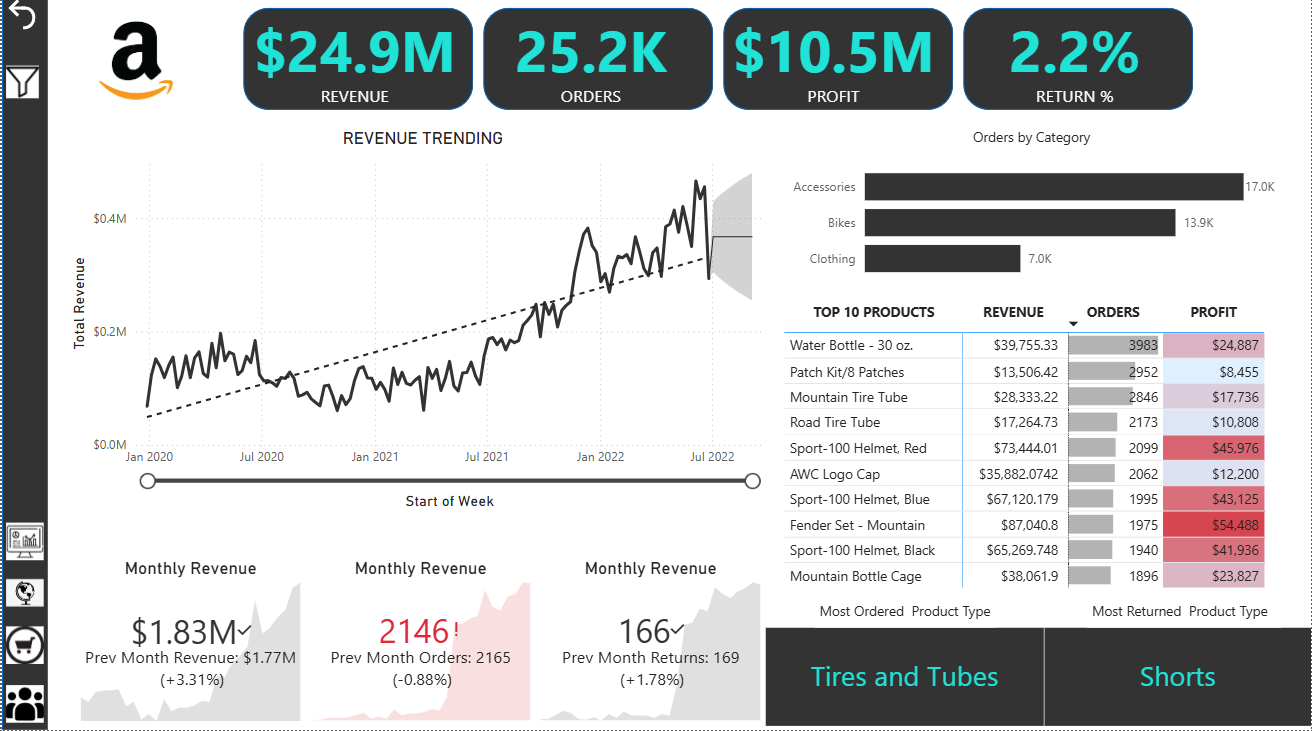

The dashboard page shown, as its layout file describes it:
{"tool":"powerbi","page":{"name":"Exec Dash","canvas":[1280,720],"ordinal":0},"visuals":[{"type":"image","title":"Amazon Logo","box":[72.5,12.5,117.5,107.5],"z":0},{"type":"card","fields":{"Values":["Table measure.Total Revenue"]},"box":[229.4,13,230.8,99.6],"z":0,"group":"g2"},{"type":"group","id":"g1","title":"KPI Cards","box":[235,13,928.8,100],"z":0,"group":"g3"},{"type":"shape","box":[235,13,225,100],"z":0,"group":"g1"},{"type":"actionButton","box":[0,509.9,45.1,50.7],"z":0,"group":"g4"},{"type":"shape","title":"Left Nav Bar","box":[0,0,45,720],"z":1000},{"type":"group","id":"g2","title":"KPI Values","box":[229.4,13,934.9,99.6],"z":1000,"group":"g3"},{"type":"card","fields":{"Values":["Table measure.Total Orders"]},"box":[460.2,13,230.8,99.6],"z":1000,"group":"g2"},{"type":"shape","box":[469.6,13,225,100],"z":1000,"group":"g1"},{"type":"actionButton","box":[0,611.3,45.1,50.7],"z":1000,"group":"g4"},{"type":"group","id":"g3","title":"KPIs","box":[229.4,13,934.9,100],"z":2000},{"type":"card","fields":{"Values":["Table measure.Total Profit"]},"box":[698.3,13,230.8,99.6],"z":2000,"group":"g2"},{"type":"shape","box":[704.2,13,225,100],"z":2000,"group":"g1"},{"type":"actionButton","box":[0,560.6,45.1,50.7],"z":2000,"group":"g4"},{"type":"card","fields":{"Values":["Table measure.Return rate"]},"box":[933.5,13,230.8,99.6],"z":3000,"group":"g2"},{"type":"shape","box":[938.8,13,225,100],"z":3000,"group":"g1"},{"type":"lineChart","title":"REVENUE TRENDING","fields":{"Category":["Calendar Lookup.Start of Year","Calendar Lookup.Start of Quarter","Calendar Lookup.Start of Month","Calendar Lookup.Start of Week"],"Y":["Table measure.Total Revenue"]},"box":[62,131,698.6,377.5],"z":3000},{"type":"actionButton","box":[0,669.1,45.1,50.7],"z":3000,"group":"g4"},{"type":"kpi","title":"Monthly Revenue","fields":{"Goal":["Table measure.Previous Month Revenue"],"Indicator":["Table measure.Total Revenue"],"TrendLine":["Calendar Lookup.Start of Month"]},"box":[72.1,551.1,225,165],"z":4000},{"type":"kpi","title":"Monthly Revenue","fields":{"Goal":["Table measure.Previous Month Orders"],"Indicator":["Table measure.Total Orders"],"TrendLine":["Calendar Lookup.Start of Month"]},"box":[297.2,551.7,225.1,164.5],"z":5000},{"type":"kpi","title":"Monthly Revenue","fields":{"Goal":["Table measure.Previous Month Returns"],"Indicator":["Table measure.Total Returns"],"TrendLine":["Calendar Lookup.Start of Month"]},"box":[522.3,551.7,225.1,164.5],"z":6000},{"type":"barChart","title":"Orders by Category","fields":{"Category":["Product Categories Lookup.CategoryName"],"Y":["Table measure.Total Orders"]},"box":[764.8,131,485.9,162],"z":7000},{"type":"pivotTable","fields":{"Rows":["Product Lookup.ProductName"],"Values":["Table measure.Total Revenue","Table measure.Total Orders","Table measure.Total Profit"]},"box":[760.6,293,497.2,295.8],"z":8000},{"type":"card","fields":{"Values":["Min(Product Subcategories Lookup.SubcategoryName)"]},"box":[747.2,619.4,272.2,95.8],"z":9000},{"type":"textbox","box":[794.4,588.9,177.8,30.6],"z":10000},{"type":"card","fields":{"Values":["Min(Product Subcategories Lookup.SubcategoryName)"]},"box":[1019.4,619.4,261.1,95.8],"z":11000},{"type":"textbox","box":[1061.1,588.9,190.3,30.6],"z":12000},{"type":"actionButton","box":[0,0,45.1,39.4],"z":13000},{"type":"group","id":"g4","title":"Navigation Buttons","box":[0,509.9,45.1,209.9],"z":14000},{"type":"actionButton","box":[0,66.4,44.7,40.4],"z":15000}]}

Visuals, with their boxes on the page's 1280x720 design canvas (x1, y1, x2, y2). These are canvas units, not pixel positions in the 1312x731 screenshot, which may show the page scaled, cropped or inside an application window:
"Amazon Logo" image: Rect(72, 12, 190, 120)
card - Table measure.Total Revenue: Rect(229, 13, 460, 113)
"KPI Cards" group: Rect(235, 13, 1164, 113)
shape: Rect(235, 13, 460, 113)
actionButton: Rect(0, 510, 45, 561)
"Left Nav Bar" shape: Rect(0, 0, 45, 720)
"KPI Values" group: Rect(229, 13, 1164, 113)
card - Table measure.Total Orders: Rect(460, 13, 691, 113)
shape: Rect(470, 13, 695, 113)
actionButton: Rect(0, 611, 45, 662)
"KPIs" group: Rect(229, 13, 1164, 113)
card - Table measure.Total Profit: Rect(698, 13, 929, 113)
shape: Rect(704, 13, 929, 113)
actionButton: Rect(0, 561, 45, 611)
card - Table measure.Return rate: Rect(934, 13, 1164, 113)
shape: Rect(939, 13, 1164, 113)
"REVENUE TRENDING" lineChart: Rect(62, 131, 761, 508)
actionButton: Rect(0, 669, 45, 720)
"Monthly Revenue" kpi: Rect(72, 551, 297, 716)
"Monthly Revenue" kpi: Rect(297, 552, 522, 716)
"Monthly Revenue" kpi: Rect(522, 552, 747, 716)
"Orders by Category" barChart: Rect(765, 131, 1251, 293)
pivotTable - Product Lookup.ProductName x Table measure.Total Revenue: Rect(761, 293, 1258, 589)
card - Min(Product Subcategories Lookup.SubcategoryName): Rect(747, 619, 1019, 715)
textbox: Rect(794, 589, 972, 620)
card - Min(Product Subcategories Lookup.SubcategoryName): Rect(1019, 619, 1280, 715)
textbox: Rect(1061, 589, 1251, 620)
actionButton: Rect(0, 0, 45, 39)
"Navigation Buttons" group: Rect(0, 510, 45, 720)
actionButton: Rect(0, 66, 45, 107)
